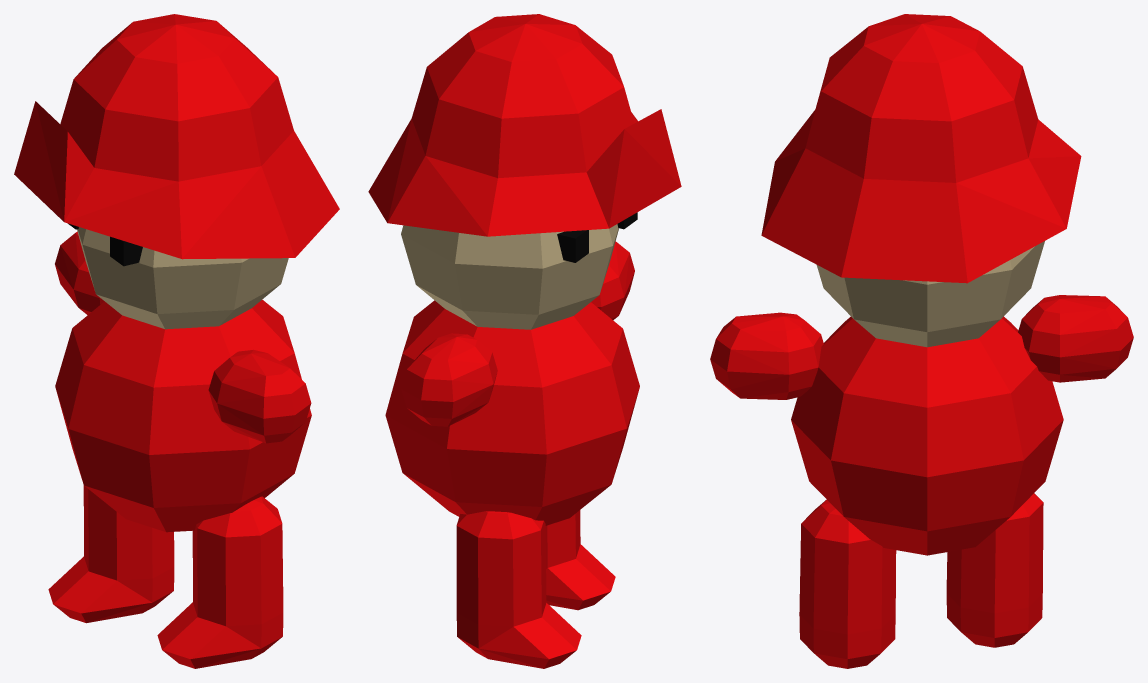
Rendered from bombero.dae.
The picture shows the model from 3 angles, left to right: view 1: azimuth 30°, elevation 25°; view 2: azimuth 150°, elevation 25°; view 3: azimuth 270°, elevation 25°; orthographic projection. The views are drawn at different scales.
Visible parts, largest first — view 1: Sphere.004, Sphere.001, Sphere.002, Sphere, Sphere.003, Sphere.006, Sphere.005, Cube; view 2: Sphere.004, Sphere.001, Sphere, Sphere.003, Sphere.005, Sphere.002, Sphere.006, Cube.001; view 3: Sphere.004, Sphere.001, Sphere.002, Sphere, Sphere.003, Sphere.006, Sphere.005.
Part boxes in pixels (bbox=[...]): Sphere.004: bbox=[14, 14, 339, 259]; Sphere.001: bbox=[55, 299, 311, 532]; Sphere.002: bbox=[157, 496, 283, 668]; Sphere: bbox=[77, 227, 288, 329]; Sphere.003: bbox=[48, 485, 174, 623]; Sphere.006: bbox=[208, 349, 311, 443]; Sphere.005: bbox=[55, 231, 104, 314]; Cube: bbox=[110, 236, 142, 266]; Sphere.004: bbox=[368, 14, 681, 236]; Sphere.001: bbox=[385, 300, 639, 525]; Sphere: bbox=[401, 224, 618, 329]; Sphere.003: bbox=[456, 511, 581, 668]; Sphere.005: bbox=[401, 333, 497, 426]; Sphere.002: bbox=[545, 510, 615, 610]; Sphere.006: bbox=[591, 241, 634, 320]; Cube.001: bbox=[557, 230, 588, 262]; Sphere.004: bbox=[761, 14, 1081, 283]; Sphere.001: bbox=[791, 316, 1063, 555]; Sphere.002: bbox=[799, 499, 896, 668]; Sphere: bbox=[816, 241, 1044, 347]; Sphere.003: bbox=[946, 493, 1043, 647]; Sphere.006: bbox=[710, 312, 823, 399]; Sphere.005: bbox=[1018, 295, 1133, 382].
Size of the model in its own units: 2.68 by 3.54 by 5.77.
